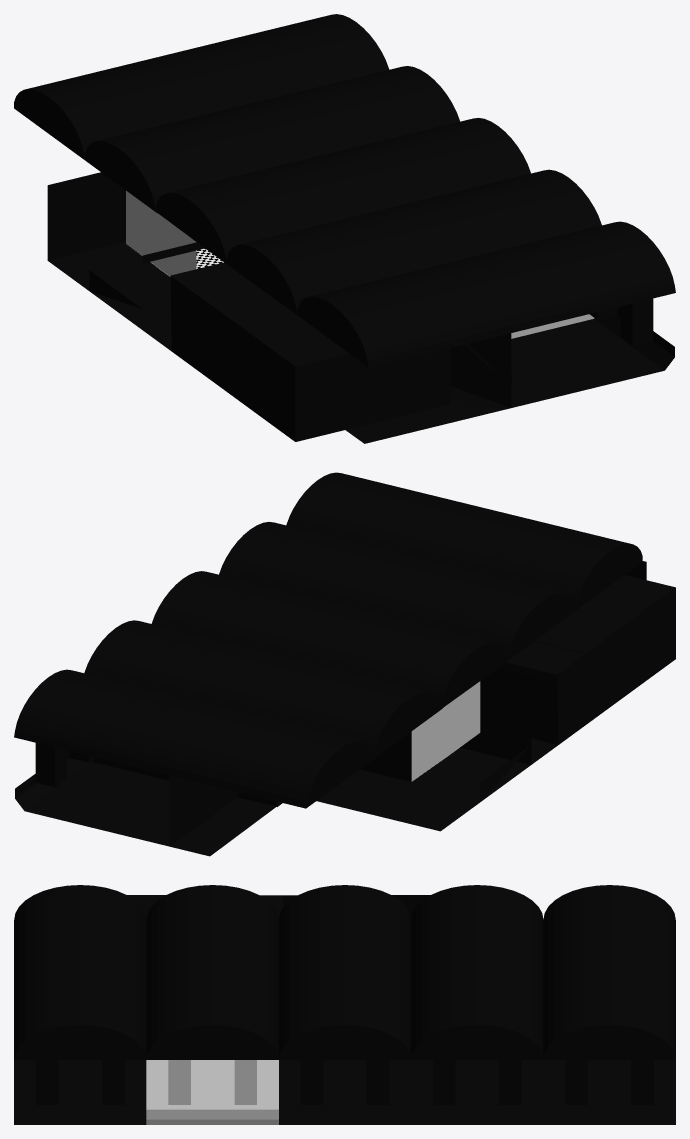
Rendered from Estaçao.fbx.
3 renders of one model, top to bottom at view 1: azimuth 30°, elevation 25°; view 2: azimuth 150°, elevation 25°; view 3: azimuth 270°, elevation 25°, orthographic. The views are drawn at different scales.
Visible parts, largest first — view 1: Cylinder.004; view 2: Cylinder.004; view 3: Cylinder.004.
Part boxes in pixels (x1,y1,x2,y2): Cylinder.004: (14,14,675,443); Cylinder.004: (14,472,675,856); Cylinder.004: (14,885,675,1124).
Size of the model in its own units: 35329 by 10490 by 60040.
